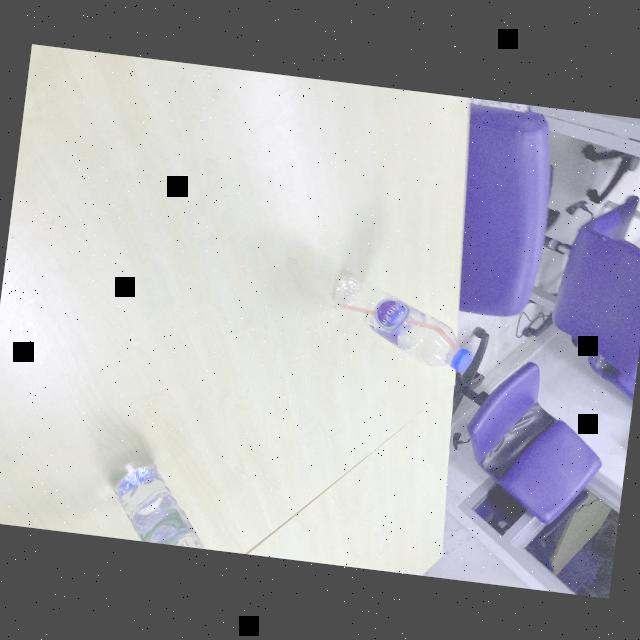plastic_bottle: (320, 267, 480, 375), (105, 456, 220, 548)
plastic_bottle_cap: (336, 301, 466, 353), (448, 343, 473, 372)
